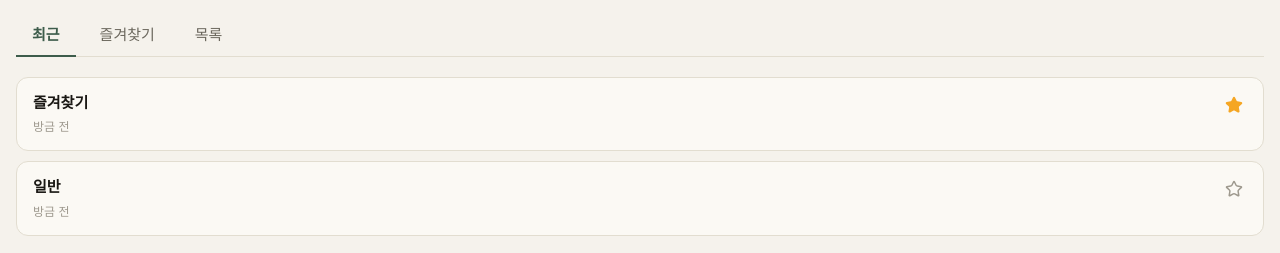
Scenario: NotesPage › 즐겨찾기 탭: is_favorite=true 항목만 표시
Click the button with test id "tab-favorite".
click(127, 36)  # box left=84, top=16, right=171, bottom=56
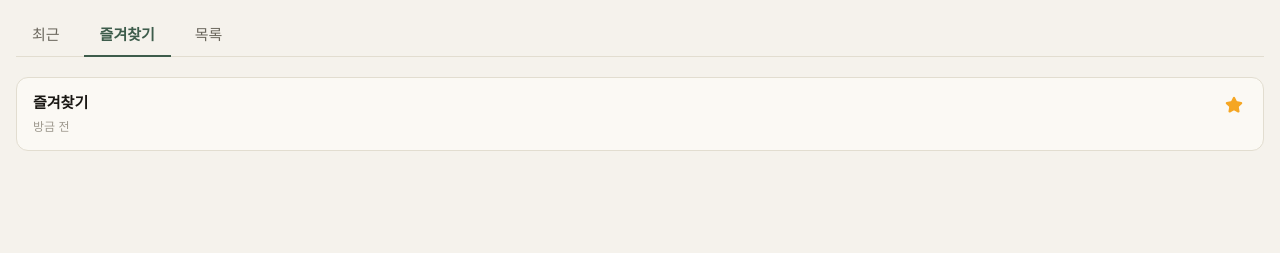
Now the number of buttons with test id "note-card" is 1, box left=16, top=76, right=1264, bottom=151
Now the text "일반" is gone
